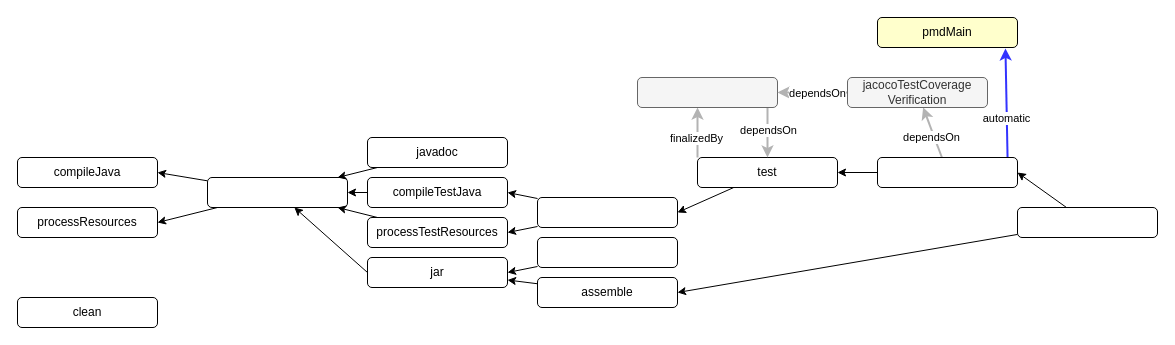
This 1175x345 diagram has some shape labels left out. The centre of each missing label's shape, as x and y in pixels:
"build" goes at pixel 1087 222.
"check" goes at pixel 947 172.
"classes" goes at pixel 277 192.
"jacocoTestReport" goes at pixel 707 92.
"testClasses" goes at pixel 607 212.
"uploadArchives" goes at pixel 607 252.
